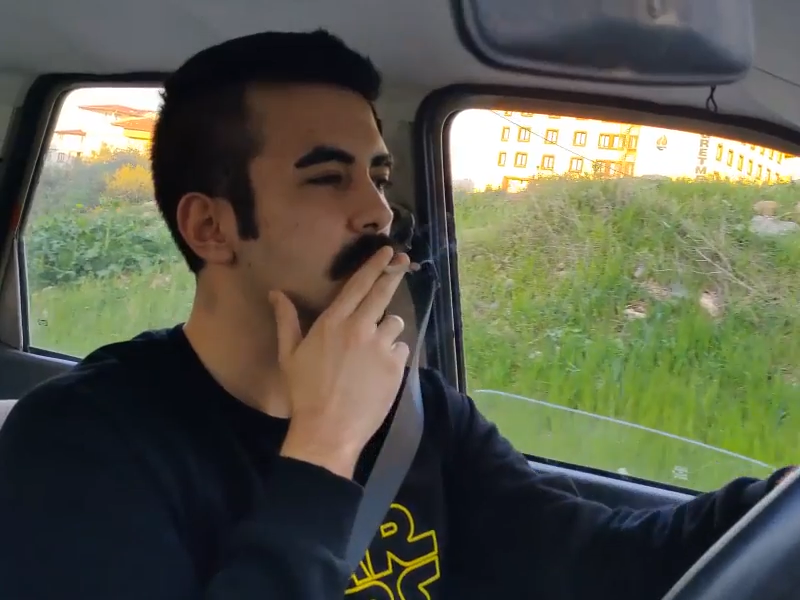sigara: (376, 251, 427, 281)
